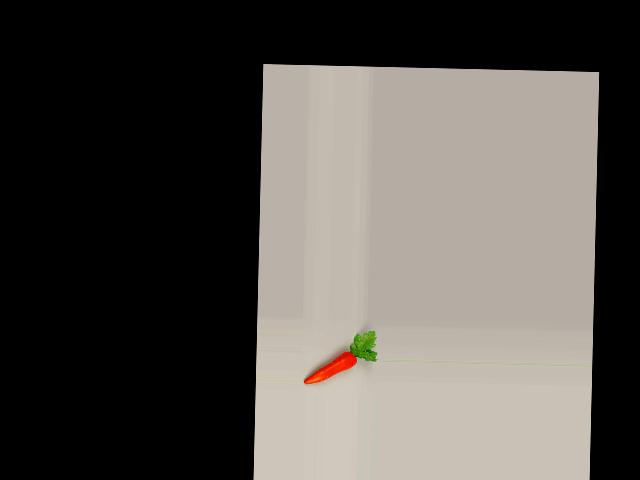carrot: (300, 344, 363, 386)
